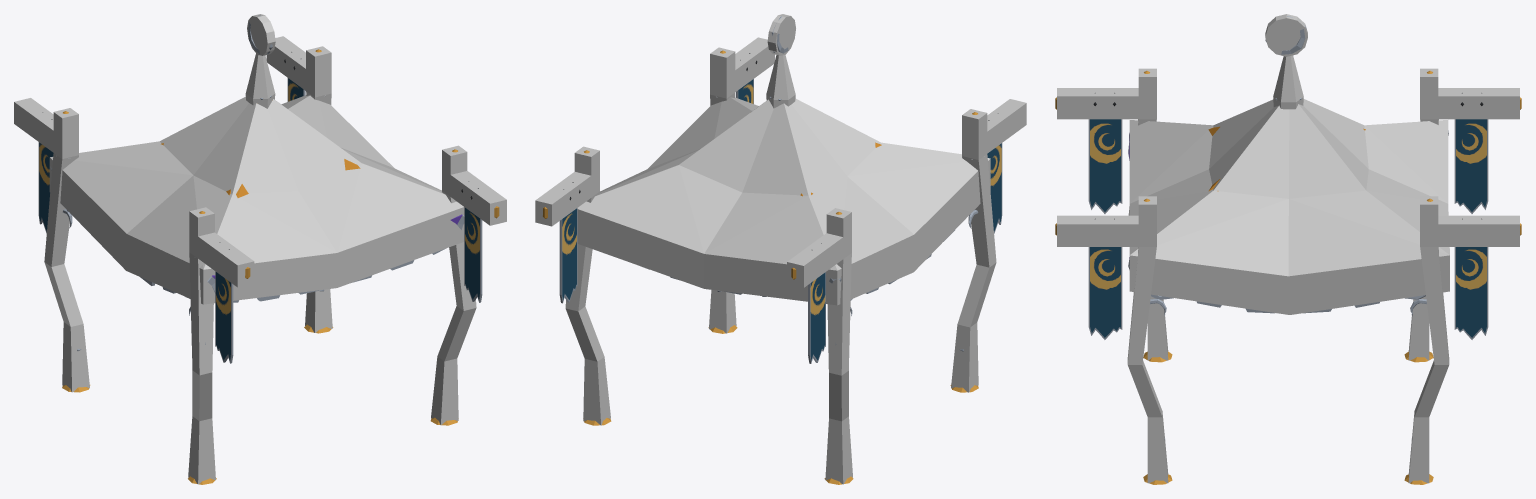
File: SM_Prop_Tent_01.fbx
The picture shows the model from 3 angles, left to right: view 1: azimuth 30°, elevation 25°; view 2: azimuth 150°, elevation 25°; view 3: azimuth 270°, elevation 25°; orthographic projection. The views are drawn at different scales.
Parts seen in each view (by area): view 1: SM_Prop_Tent_01_ConvexHulls, SM_Prop_Tent_01; view 2: SM_Prop_Tent_01_ConvexHulls, SM_Prop_Tent_01; view 3: SM_Prop_Tent_01_ConvexHulls, SM_Prop_Tent_01.
Boxes of the visible parts, x1,y1,x2,y2 form: SM_Prop_Tent_01_ConvexHulls: (14, 14, 506, 484); SM_Prop_Tent_01: (38, 15, 499, 484); SM_Prop_Tent_01_ConvexHulls: (535, 14, 1026, 484); SM_Prop_Tent_01: (543, 16, 1002, 484); SM_Prop_Tent_01_ConvexHulls: (1057, 14, 1519, 483); SM_Prop_Tent_01: (1055, 16, 1521, 484).
Bounding box in the file's own units: 332 × 467 × 444.
2 materials, 1 textured.
